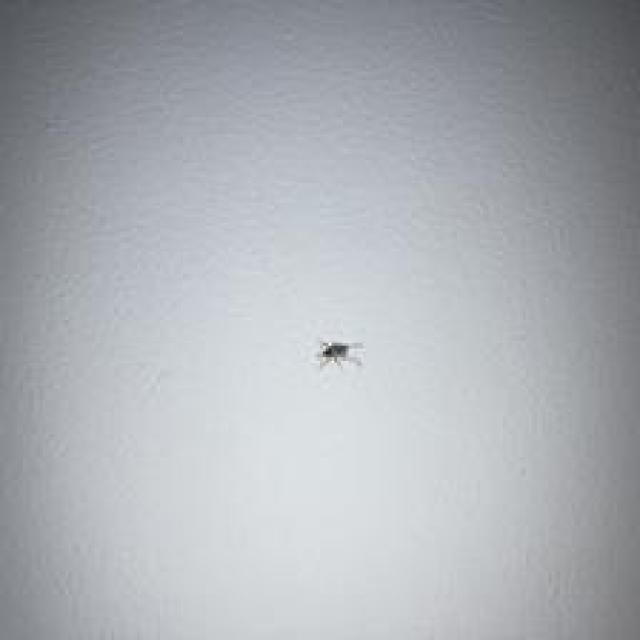Culex: (316, 339, 364, 370)
